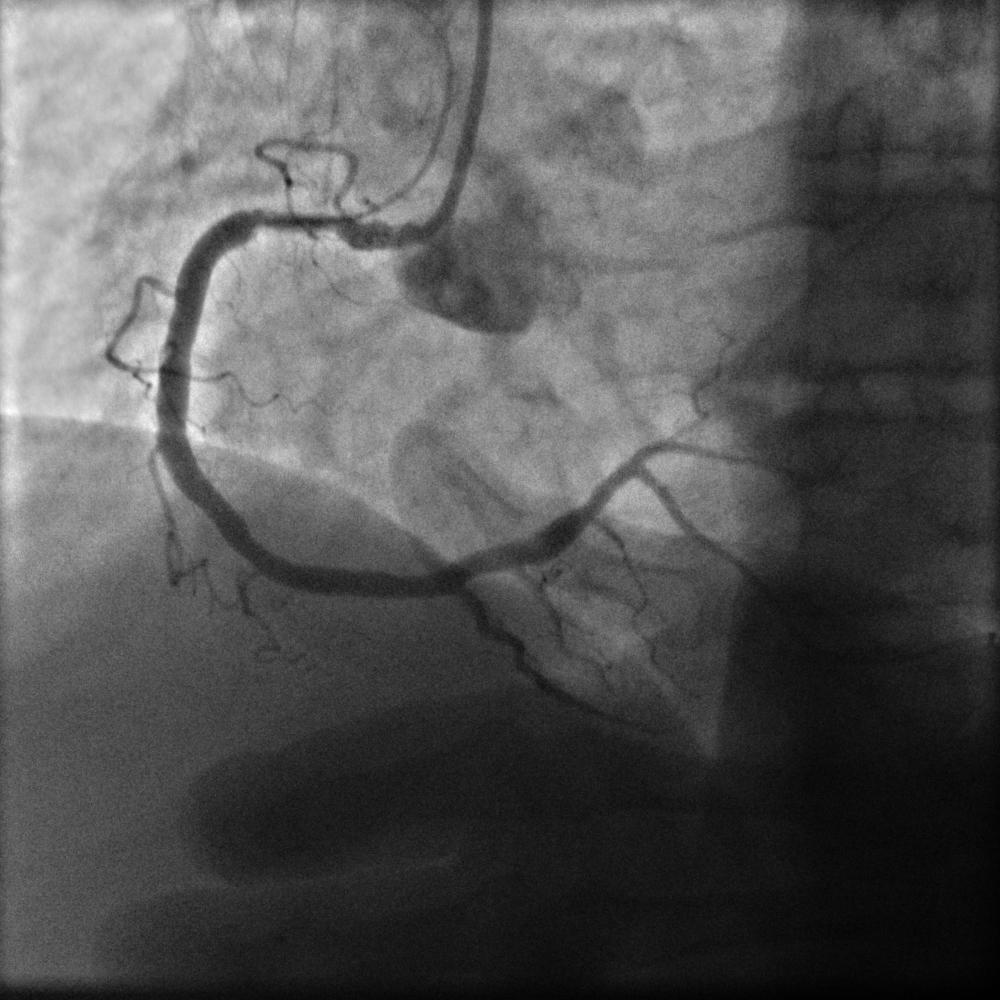Stenosis: (249, 196, 357, 245)
